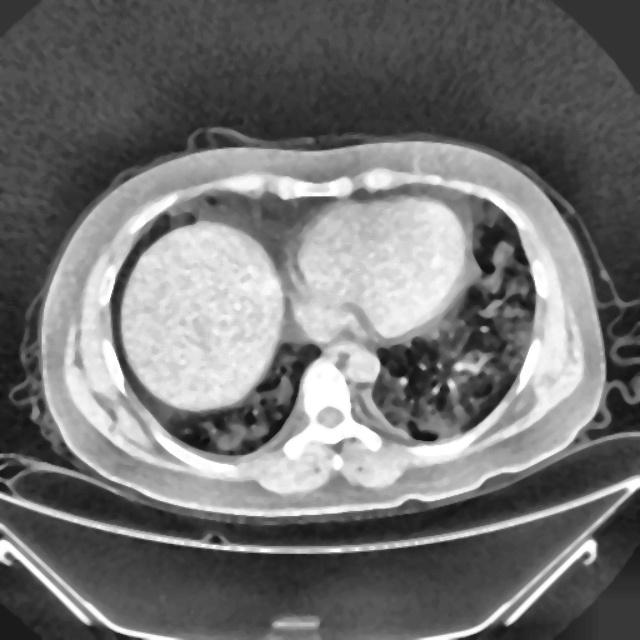covid: (32, 133, 606, 522)
